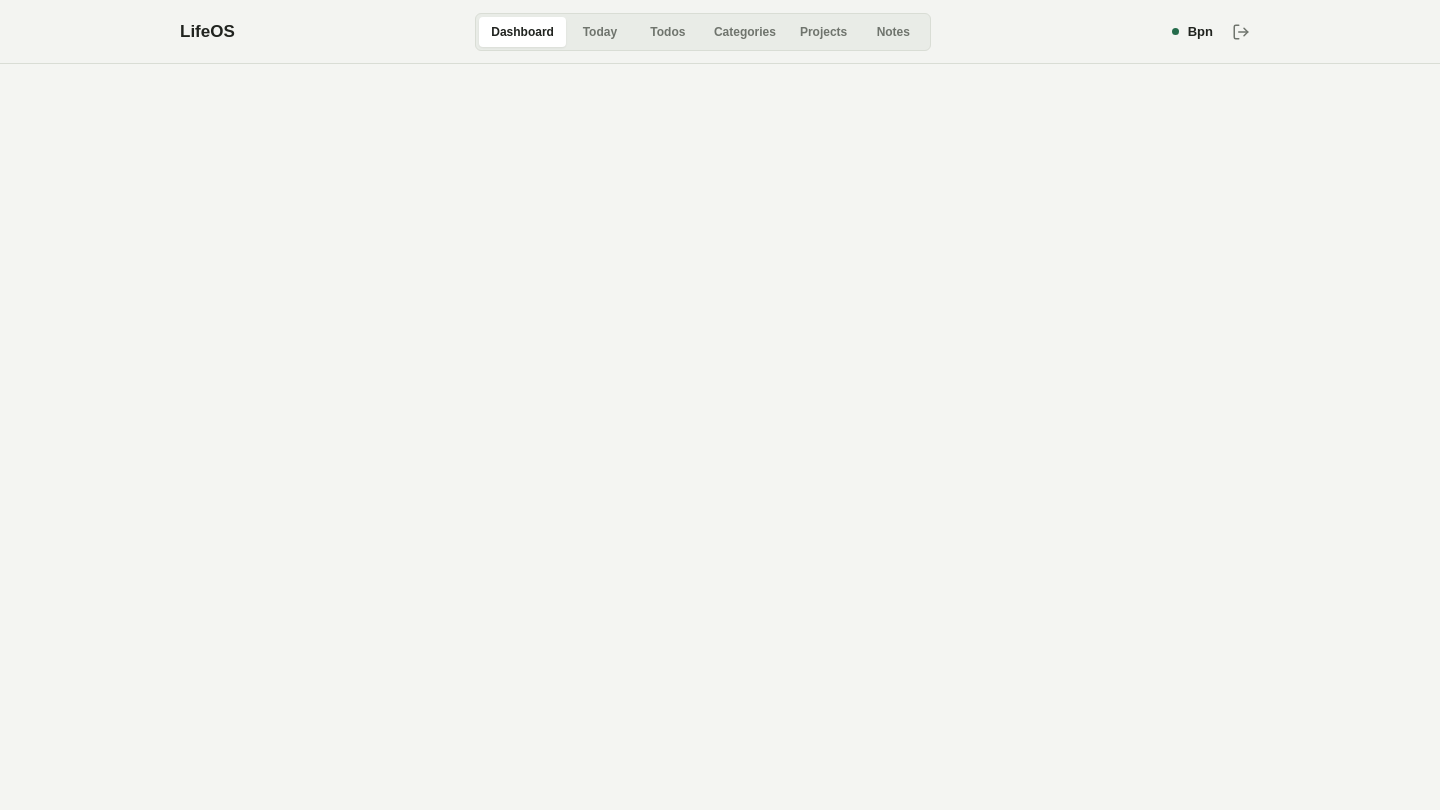
Scenario: renders Today summary and all four sections in server order
Click the button "Today" at (600, 32), box [566,16,634,46]
(page scrolled)
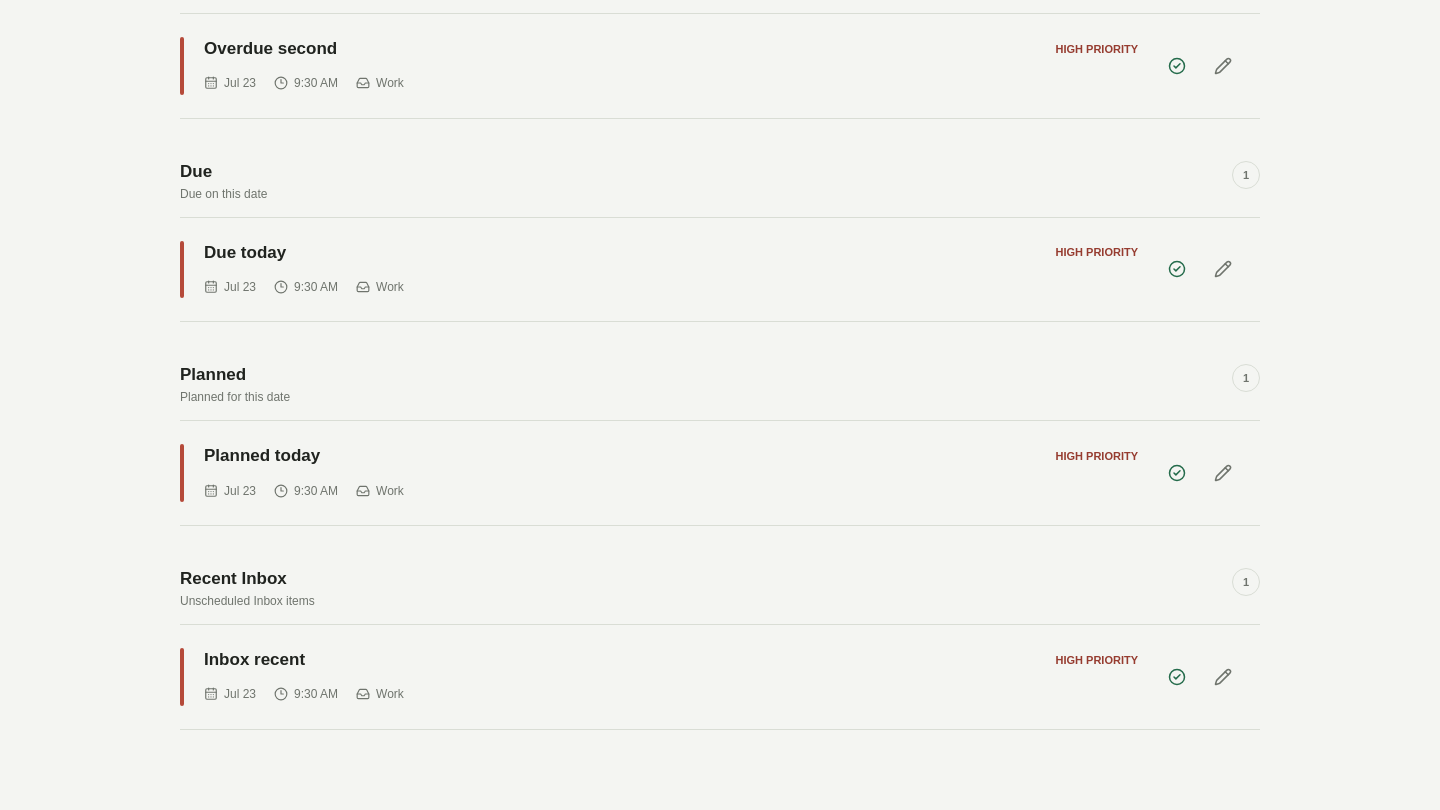
Expected: the list named "Due todos" shows "Due today", [204,243,286,262]
Expected: the list named "Planned todos" shows "Planned today", [204,446,320,465]
Expected: the list named "Recent Inbox todos" shows "Inbox recent", [204,650,305,669]
